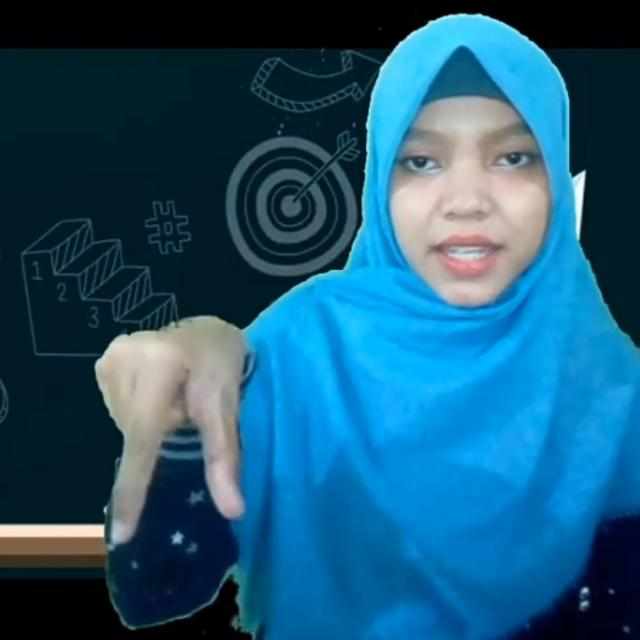Q: (92, 312, 255, 552)
